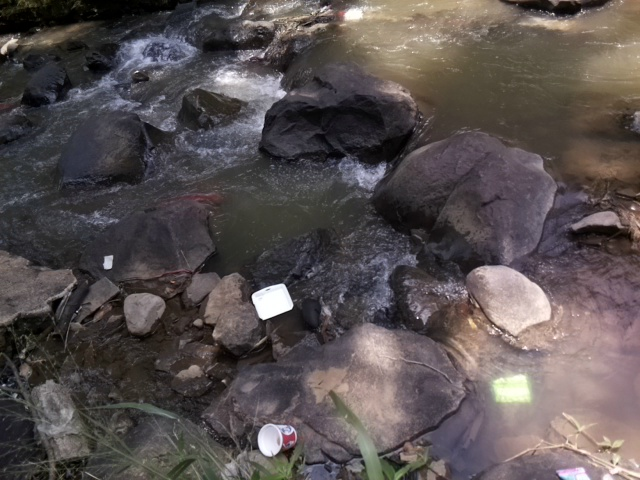Sampah_Styrofoam: (250, 285, 299, 324), (251, 422, 301, 456)
